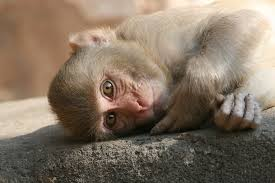monkey: (50, 4, 253, 163)
